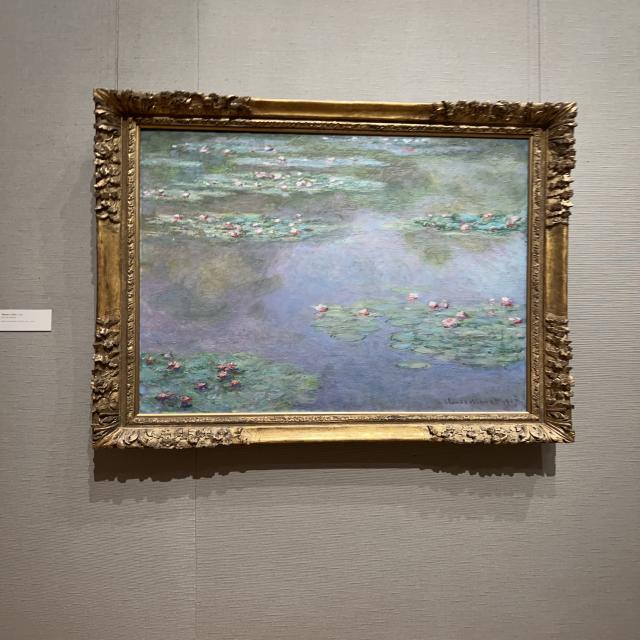lilies: (140, 133, 525, 414), (142, 135, 527, 413)
